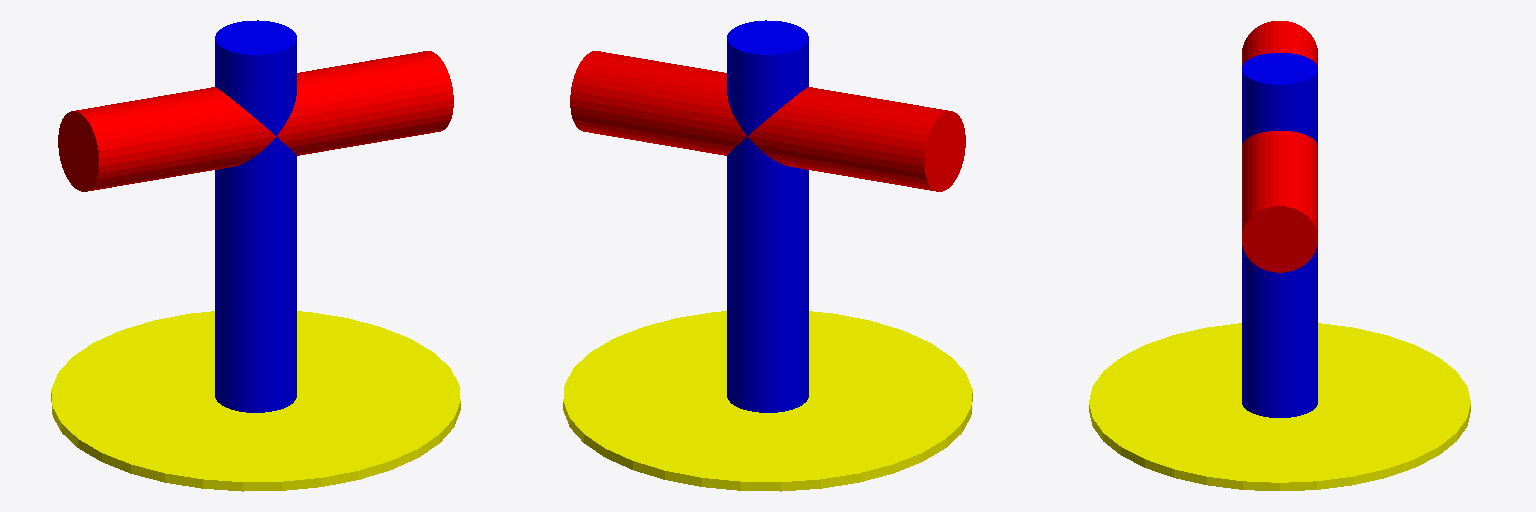
robot.urdf — pan_tilt:
<?xml version="1.0"?>

<robot name="pan_tilt">

  <link name="base_link">
  
  	<visual>
      <geometry>
				<cylinder length="0.01" radius="0.2"/>
      </geometry>
      <origin rpy="0 0 0" xyz="0 0 0"/>
      <material name="yellow">
        <color rgba="1 1 0 1"/>
      </material>
    </visual>

    <collision>
      <geometry>
				<cylinder length="0.03" radius="0.2"/>
      </geometry>
      <origin rpy="0 0 0" xyz="0 0 0"/>
    </collision>
  </link>

  <joint name="pan_joint" type="revolute">
    <parent link="base_link"/>
    <child link="pan_link"/>
    <origin xyz="0 0 0.1"/>
    <axis xyz="0 0 1" />
    <limit effort="300" velocity="0.1" lower="-3.14" upper="3.14"/>
    <dynamics damping="50" friction="1"/>
  </joint>

  <link name="pan_link">
    <visual>
      <geometry>
      	<cylinder length="0.4" radius="0.04"/>
      </geometry>
      <origin rpy="0 0 0" xyz="0 0 0.09"/>
      <material name="blue">
        <color rgba="0 0 1 1"/>
      </material>
    </visual>
    <collision>
      <geometry>
	<cylinder length="0.4" radius="0.06"/>
      </geometry>
      <origin rpy="0 0 0" xyz="0 0 0.09"/>
    </collision>
    <inertial>
	<mass value="1"/>
	<inertia ixx="1.0" ixy="0.0" ixz="0.0" iyy="1.0" iyz="0.0" izz="1.0"/>
    </inertial>
  </link>

  <joint name="tilt_joint" type="revolute">
    <parent link="pan_link"/>
    <child link="tilt_link"/>
    <origin xyz="0 0 0.2"/>
    <axis xyz="0 1 0" />
    <limit effort="300" velocity="0.1" lower="-4.64" upper="-1.5"/>
    <dynamics damping="50" friction="1"/>
  </joint>

  <link name="tilt_link">
    <visual>
      <geometry>
	      <cylinder length="0.4" radius="0.04"/>
      </geometry>
      <origin rpy="0 1.57 0" xyz="0 0 0"/>
      <material name="red">
        <color rgba="1 0 0 1"/>
      </material>
    </visual>
    <collision>
      <geometry>
	<cylinder length="0.4" radius="0.06"/>
      </geometry>
      <origin rpy="0 1.5 0" xyz="0 0 0"/>
    </collision>
    <inertial>
	<mass value="1"/>
	<inertia ixx="1.0" ixy="0.0" ixz="0.0" iyy="1.0" iyz="0.0" izz="1.0"/>
    </inertial>
  </link>


</robot>

--- Render facts (derived) ---
The picture shows the robot from 3 angles, left to right: view 1: azimuth 30°, elevation 25°; view 2: azimuth 150°, elevation 25°; view 3: azimuth 270°, elevation 25°; orthographic projection.
Model pan_tilt with 3 links and 2 joints (2 revolute), rooted at base_link, posed all joints at 0 but 1 set to mid-range because 0 is outside their limits (tilt_joint = -3.07).
Visible links, largest first — view 1: base_link, tilt_link, pan_link; view 2: base_link, tilt_link, pan_link; view 3: base_link, pan_link, tilt_link.
Link boxes in pixels (box(x1,y1,x2,y2)): base_link: box(51, 311, 460, 491); tilt_link: box(58, 51, 453, 191); pan_link: box(215, 20, 296, 412); base_link: box(563, 311, 972, 491); tilt_link: box(570, 51, 965, 191); pan_link: box(727, 20, 808, 412); base_link: box(1089, 323, 1470, 490); pan_link: box(1242, 53, 1317, 417); tilt_link: box(1242, 21, 1317, 272).
Bounding box of the posed robot: 0.4047 × 0.4 × 0.4 m (x, y, z).
Geometry: primitives only (box / cylinder / sphere), no mesh files.